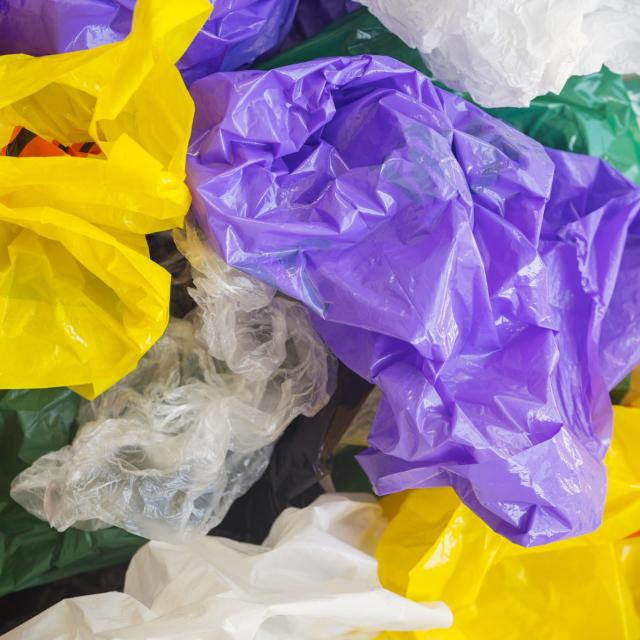Single-layer Plastic: (186, 55, 640, 545), (11, 224, 335, 543), (0, 0, 211, 398), (1, 494, 452, 640), (376, 405, 640, 640), (0, 387, 144, 595), (484, 68, 640, 185), (178, 0, 360, 86), (254, 8, 431, 75), (0, 0, 135, 55)
